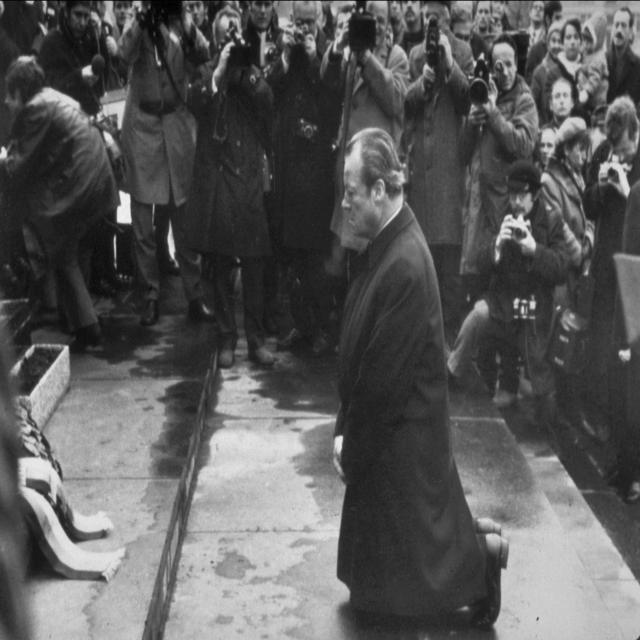body: (326, 127, 511, 624), (0, 53, 120, 354), (116, 0, 217, 329), (184, 5, 275, 368), (445, 158, 570, 412), (265, 0, 344, 348), (319, 0, 410, 281), (580, 86, 640, 498), (399, 13, 471, 348), (455, 34, 541, 308), (540, 114, 596, 416), (37, 0, 105, 118), (0, 0, 131, 49), (574, 9, 611, 138), (604, 6, 640, 121), (530, 20, 564, 130), (524, 0, 563, 88), (241, 0, 285, 73), (494, 0, 546, 40), (448, 1, 478, 68), (386, 0, 425, 51), (322, 0, 358, 54), (556, 18, 584, 82), (548, 75, 575, 134), (532, 122, 556, 178), (180, 0, 208, 31), (474, 0, 493, 40)
